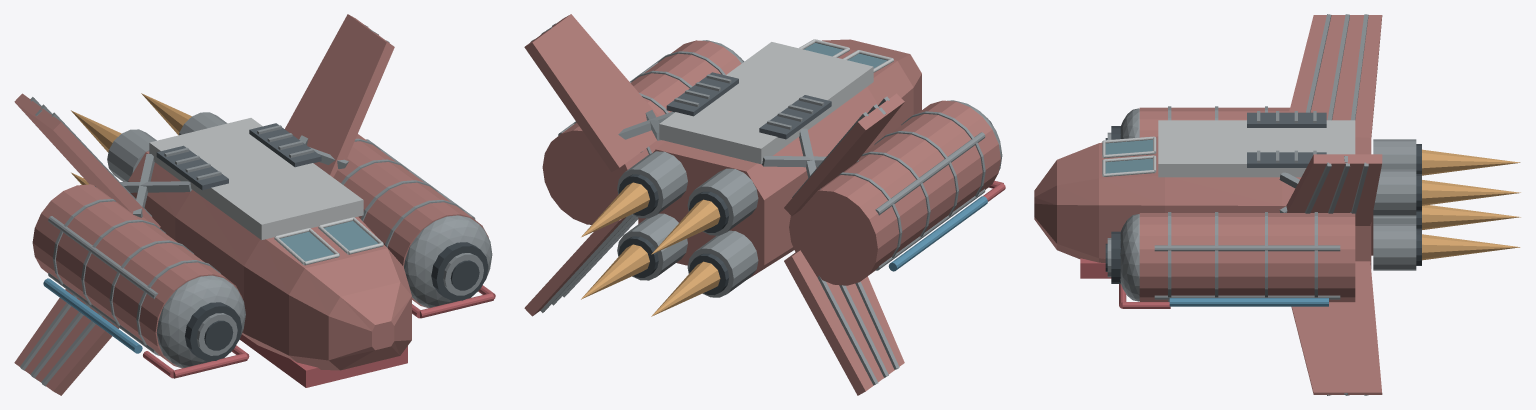
The model's file is earp_red_flight.glb.
3 views of the same model, side by side, from view 1: azimuth 30°, elevation 25°; view 2: azimuth 150°, elevation 25°; view 3: azimuth 270°, elevation 25° (orthographic). The views are drawn at different scales.
Visible parts, largest first — view 1: material_0, material_4, material_2, material_1, material_5, material_9, material_3, material_7, material_6; view 2: material_0, material_4, material_2, material_7, material_5, material_9, material_6, material_3; view 3: material_0, material_4, material_2, material_7, material_9, material_5, material_6, material_3, material_1.
Part boxes in pixels (x1=…): material_0: x1=14, y1=14, x2=488, y2=395; material_4: x1=20, y1=25, x2=492, y2=386; material_2: x1=149, y1=118, x2=383, y2=265; material_1: x1=143, y1=285, x2=495, y2=387; material_5: x1=185, y1=242, x2=488, y2=361; material_9: x1=156, y1=123, x2=321, y2=190; material_3: x1=280, y1=221, x2=377, y2=261; material_7: x1=71, y1=93, x2=191, y2=184; material_6: x1=43, y1=278, x2=142, y2=353; material_0: x1=524, y1=14, x2=1000, y2=395; material_4: x1=530, y1=23, x2=1002, y2=385; material_2: x1=659, y1=39, x2=893, y2=163; material_7: x1=581, y1=182, x2=720, y2=316; material_5: x1=618, y1=60, x2=993, y2=295; material_9: x1=666, y1=72, x2=831, y2=139; material_6: x1=888, y1=196, x2=987, y2=271; material_3: x1=804, y1=43, x2=887, y2=68; material_0: x1=1034, y1=15, x2=1382, y2=394; material_4: x1=1107, y1=14, x2=1416, y2=395; material_2: x1=1102, y1=120, x2=1355, y2=177; material_7: x1=1422, y1=149, x2=1520, y2=260; material_9: x1=1247, y1=112, x2=1326, y2=167; material_5: x1=1105, y1=126, x2=1421, y2=283; material_6: x1=1169, y1=298, x2=1328, y2=306; material_3: x1=1105, y1=139, x2=1152, y2=173; material_1: x1=1080, y1=258, x2=1170, y2=308.
Size of the model in its own units: 3.75 by 2.87 by 5.19.
